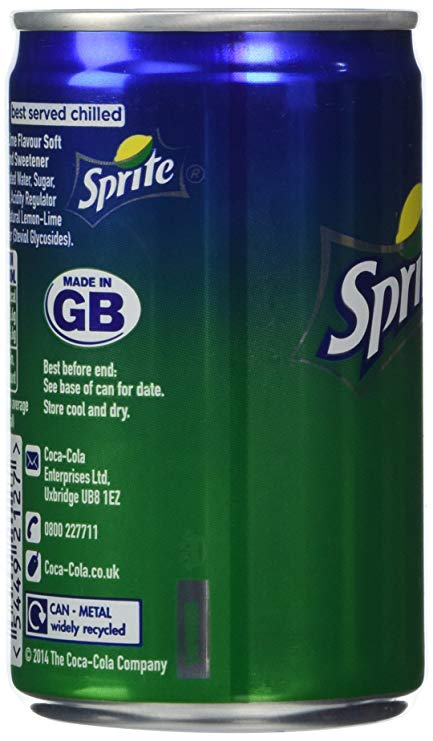sprite: (326, 252, 425, 376), (78, 148, 173, 211)
